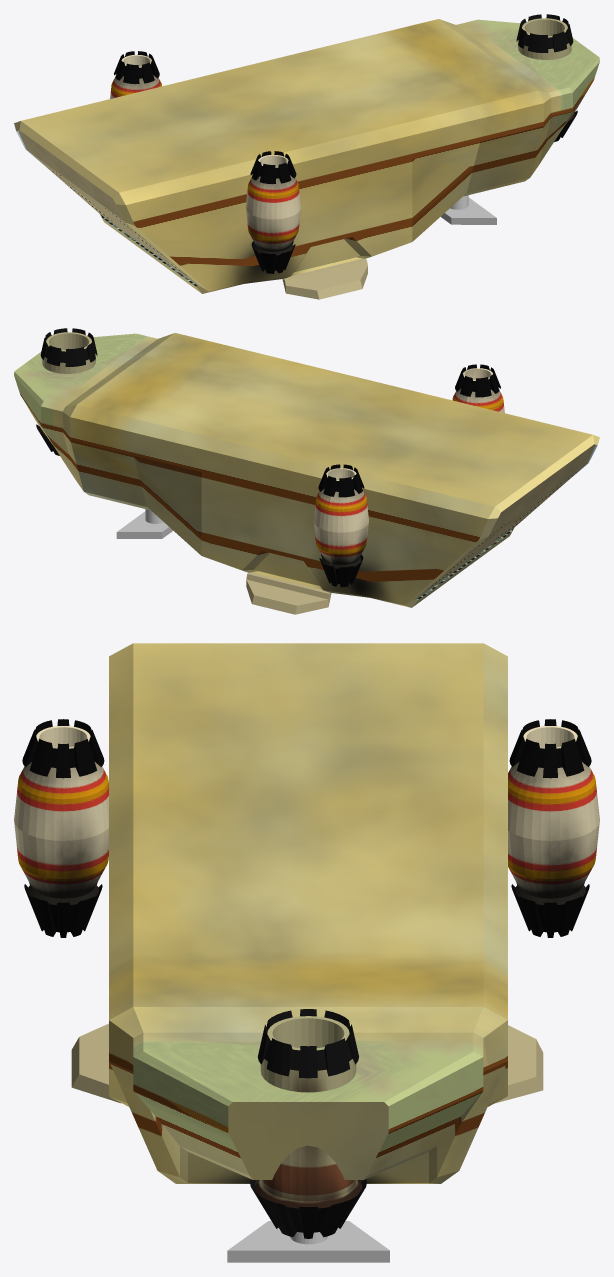
Rendered from SpaceBot.fbx.
3 views of the same model, one above another, from view 1: azimuth 30°, elevation 25°; view 2: azimuth 150°, elevation 25°; view 3: azimuth 270°, elevation 25° (orthographic). The views are drawn at different scales.
Parts seen in each view (by area): view 1: body, Cylinder.003, ramp, Cylinder.004, Cube.005, Cylinder.002, Cube.007; view 2: body, Cylinder.002, ramp, Cube.006, Cylinder.004, Cylinder.003, Cube.007; view 3: body, Cylinder.003, Cylinder.002, Cylinder.004, Cube.007, Cube.005, Cube.006.
Part boxes in pixels (box(x1,y1,x2,y2)): body: box(14, 19, 599, 293); Cylinder.003: box(245, 151, 300, 273); ramp: box(18, 130, 199, 286); Cylinder.004: box(516, 14, 577, 141); Cube.005: box(282, 258, 367, 299); Cylinder.002: box(110, 51, 161, 98); Cube.007: box(441, 197, 496, 224); body: box(14, 333, 599, 607); Cylinder.002: box(313, 464, 368, 587); ramp: box(414, 444, 595, 600); Cube.006: box(246, 572, 331, 614); Cylinder.004: box(36, 328, 97, 455); Cylinder.003: box(452, 364, 504, 412); Cube.007: box(116, 511, 173, 538); body: box(109, 643, 507, 1183); Cylinder.003: box(14, 719, 108, 937); Cylinder.002: box(508, 719, 599, 937); Cylinder.004: box(249, 1009, 366, 1238); Cube.007: box(227, 1221, 389, 1262); Cube.005: box(71, 1023, 121, 1103); Cube.006: box(495, 1025, 543, 1103).
Size of the model in its own units: 2645 by 821 by 1469.
